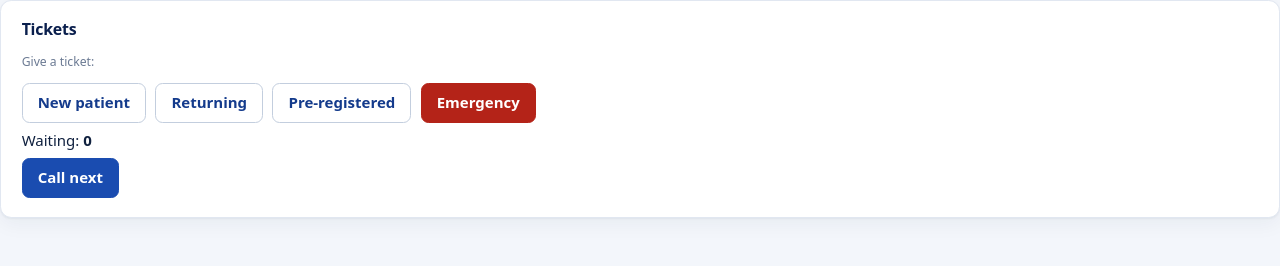
Test: TicketDesk › gives a ticket in the chosen lane and shows its code
Click the button "Returning": (209, 103) [155,83,263,123]
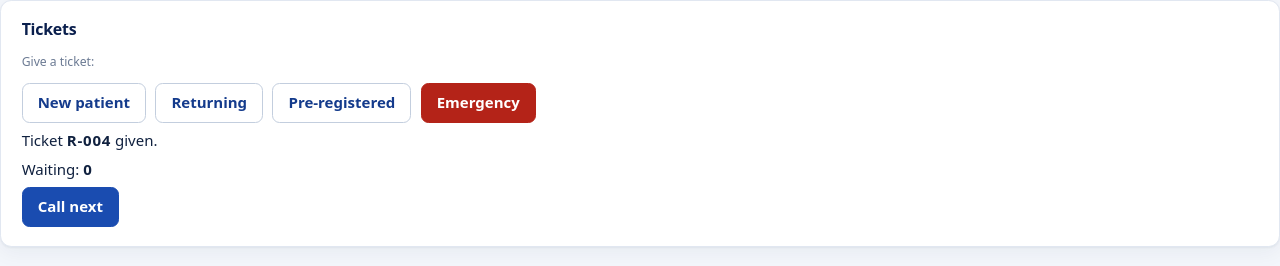
Result: the text "R-004" is shown at [67,130,111,150]
